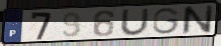6: (92, 9, 117, 38)
7: (31, 11, 53, 41)
9: (61, 11, 84, 38)
G: (152, 7, 182, 35)
N: (181, 4, 215, 36)
U: (119, 7, 151, 37)
